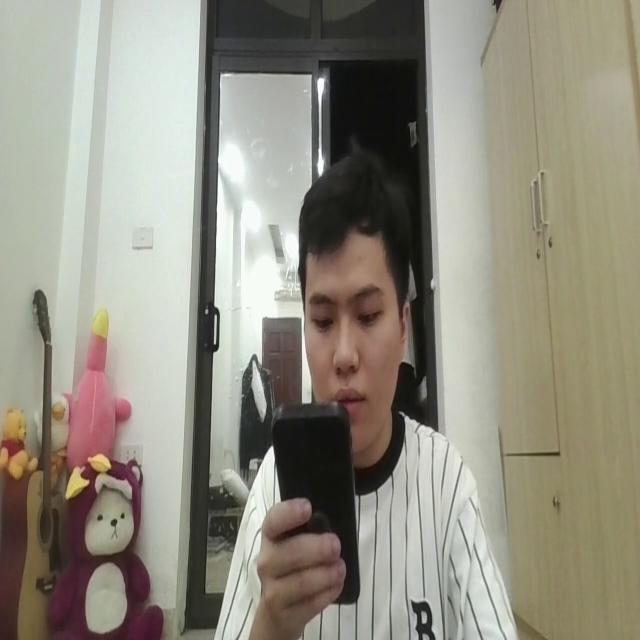phone: (270, 400, 364, 608)
student: (202, 139, 518, 640)
